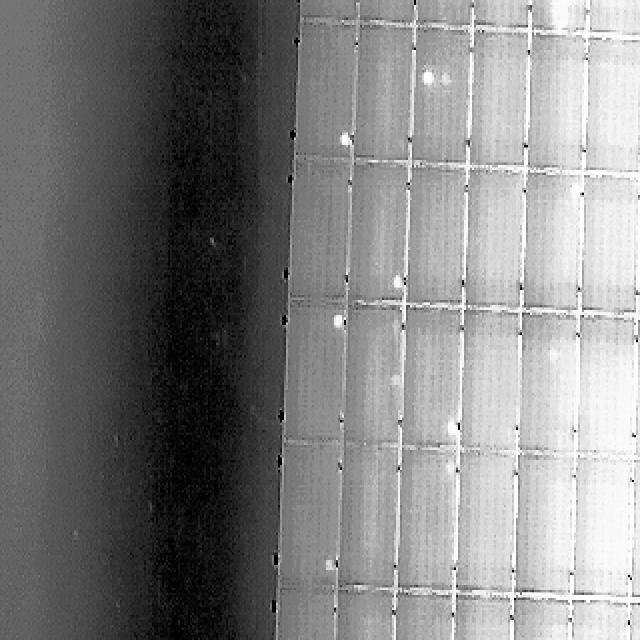Hotspots: (414, 66, 446, 87), (385, 272, 404, 298), (440, 415, 458, 441), (323, 554, 340, 581), (330, 314, 348, 336), (339, 130, 355, 154)
PV-modules: (341, 449, 404, 594), (286, 165, 348, 309), (515, 459, 576, 602), (464, 33, 526, 173), (279, 447, 338, 594), (406, 171, 467, 313), (347, 311, 408, 453), (401, 311, 462, 453), (519, 315, 579, 459), (456, 313, 516, 457), (459, 174, 520, 315), (352, 168, 412, 311), (573, 318, 633, 461), (355, 21, 417, 159), (571, 461, 630, 605), (452, 456, 511, 600), (398, 452, 457, 596), (577, 180, 637, 320), (282, 309, 341, 451), (528, 36, 587, 176), (411, 31, 470, 170), (582, 41, 640, 180), (294, 19, 352, 157), (525, 177, 582, 317), (272, 590, 334, 640), (338, 592, 398, 640), (394, 595, 452, 640), (510, 600, 570, 640), (446, 600, 506, 640), (566, 602, 626, 640), (584, 0, 640, 38), (530, 0, 589, 33), (473, 0, 533, 31), (412, 0, 472, 28), (357, 0, 417, 27), (299, 0, 358, 24), (634, 462, 640, 608), (636, 320, 640, 462), (630, 605, 640, 640)
